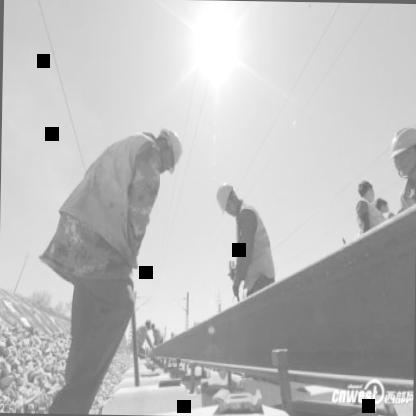head: (354, 172, 375, 206), (374, 193, 392, 219)
helmet: (384, 121, 416, 181), (150, 127, 184, 174), (207, 181, 244, 219)
